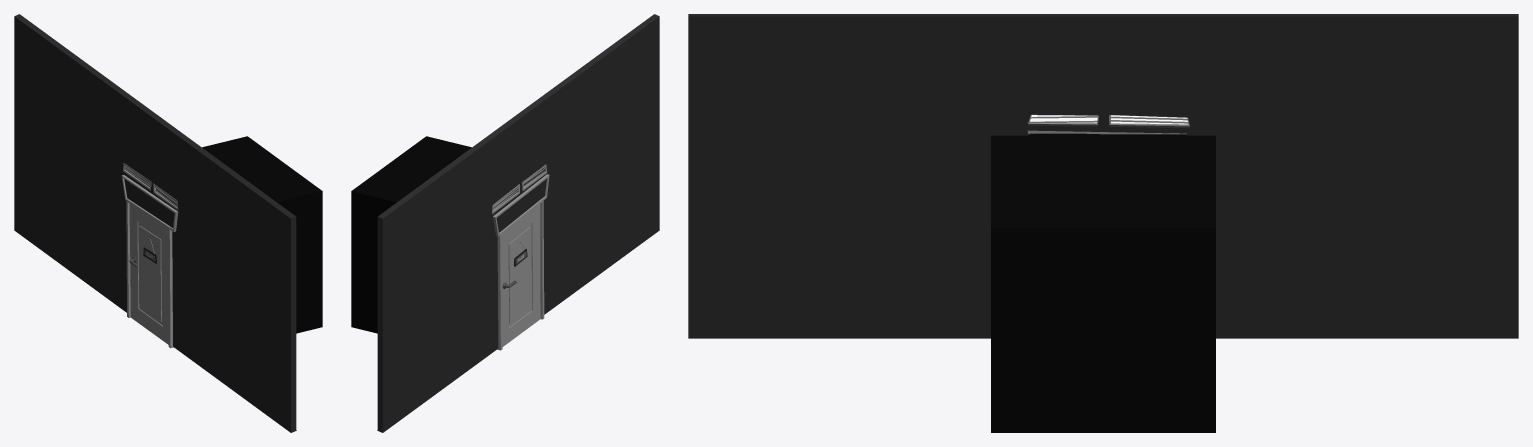
File: pintu kamar fix.fbx
3 renders of one model, left to right at view 1: azimuth 30°, elevation 25°; view 2: azimuth 150°, elevation 25°; view 3: azimuth 270°, elevation 25°, orthographic. The views are drawn at different scales.
Visible parts, largest first — view 1: Plane, Cube.003, Cube, Cube.002, Cube.001; view 2: Plane, Cube.003, Cube, Cube.002, Cube.001; view 3: Plane, Cube.003, Cube.002.
Part boxes in pixels (x1,y1,x2,y2): Plane: (14, 14, 296, 432); Cube.003: (134, 136, 322, 333); Cube: (129, 204, 168, 344); Cube.002: (121, 163, 178, 231); Cube.001: (126, 198, 173, 348); Plane: (377, 14, 659, 432); Cube.003: (351, 136, 513, 333); Cube: (501, 204, 540, 346); Cube.002: (492, 164, 549, 236); Cube.001: (497, 198, 544, 350); Plane: (688, 14, 1518, 338); Cube.003: (991, 133, 1215, 432); Cube.002: (1027, 114, 1189, 134).
Bounding box in the file's own units: 214 × 318 × 737.
Materials: 5 (1 with a texture image).
